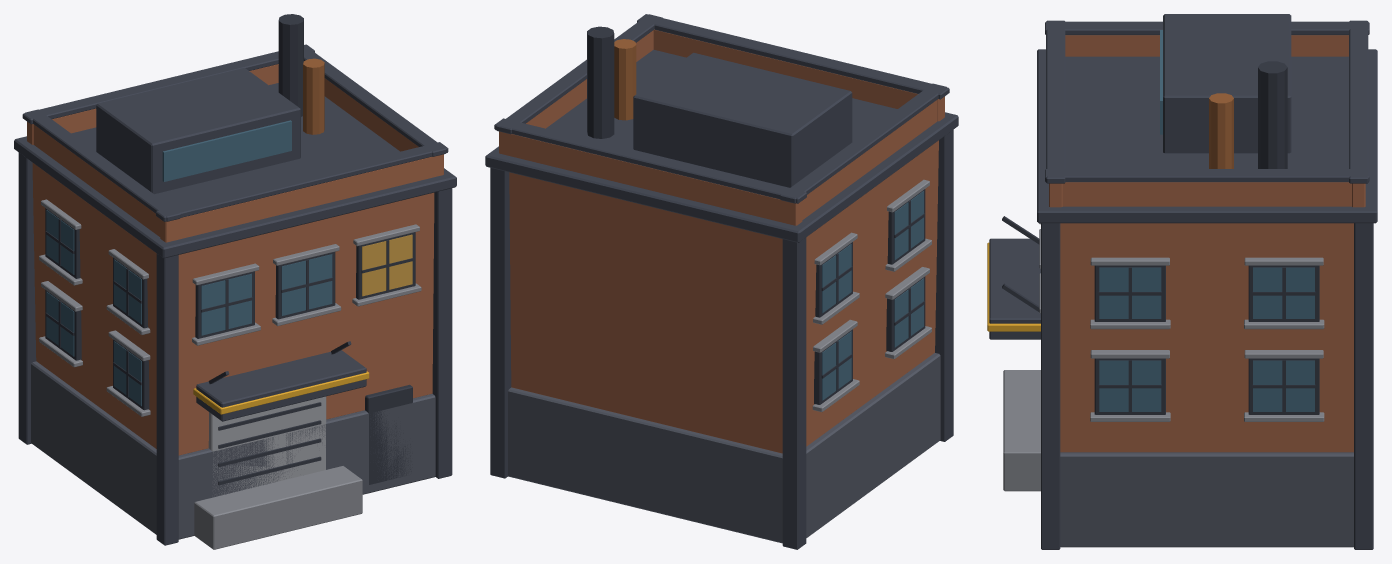
The model's file is Stylized_Apoc_Building_07_Collapsed_Depot_Midrise.fbx.
3 views of the same model, side by side, from view 1: azimuth 30°, elevation 25°; view 2: azimuth 150°, elevation 25°; view 3: azimuth 270°, elevation 25° (orthographic). The views are drawn at different scales.
Visible parts, largest first — view 1: Stylized_Apoc_Building_07_Collapsed_Depot_Midrise; view 2: Stylized_Apoc_Building_07_Collapsed_Depot_Midrise; view 3: Stylized_Apoc_Building_07_Collapsed_Depot_Midrise.
Boxes of the visible parts, x1,y1,x2,y2 form: Stylized_Apoc_Building_07_Collapsed_Depot_Midrise: (14,14,456,549); Stylized_Apoc_Building_07_Collapsed_Depot_Midrise: (485,14,958,549); Stylized_Apoc_Building_07_Collapsed_Depot_Midrise: (987,14,1377,549).
Bounding box in the file's own units: 6.78 × 8.73 × 6.85.
